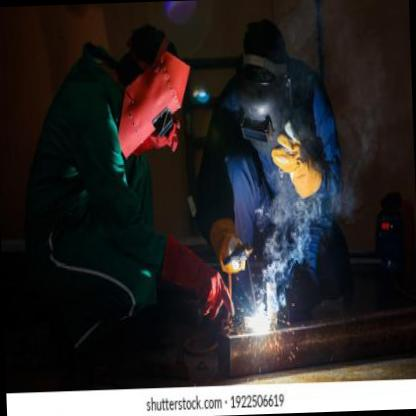Gloves: (160, 233, 234, 324), (269, 119, 324, 200), (209, 217, 248, 275)
